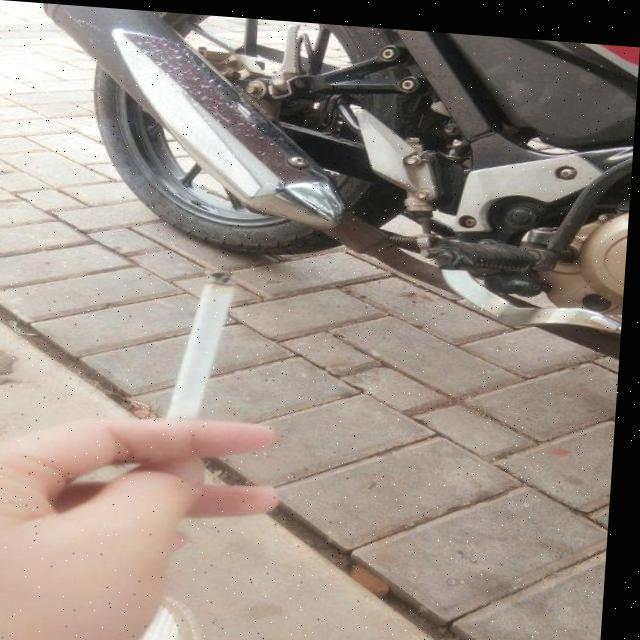cigarette: (171, 265, 245, 422)
